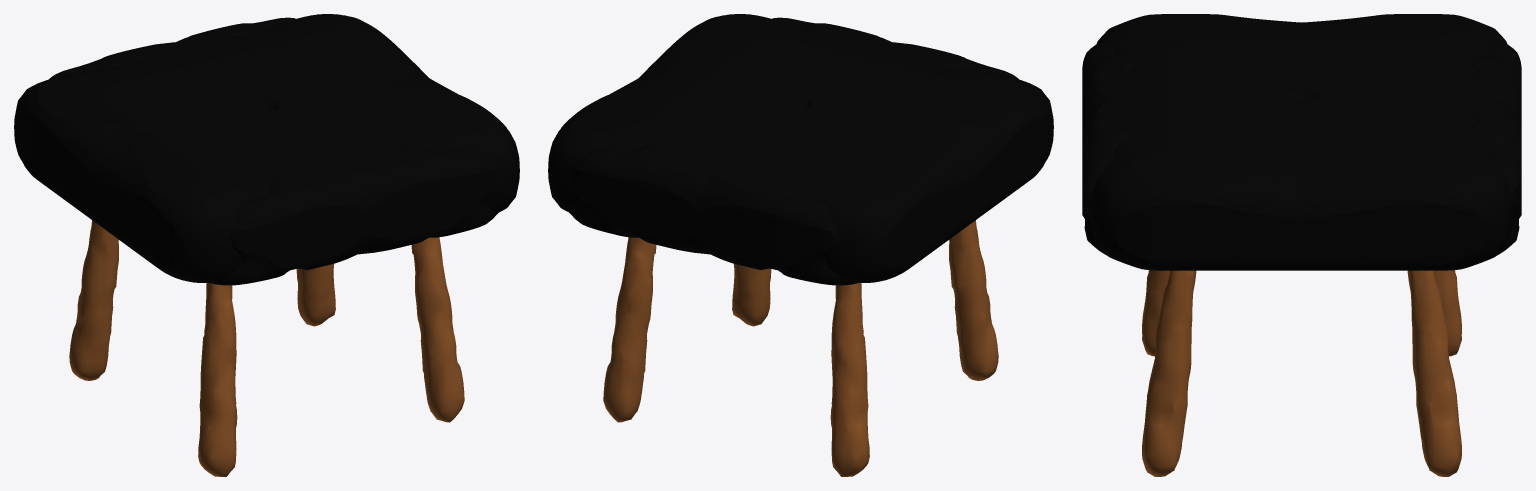
The model's file is Packing Table Small.fbx.
3 views of the same model, side by side, from view 1: azimuth 30°, elevation 25°; view 2: azimuth 150°, elevation 25°; view 3: azimuth 270°, elevation 25° (orthographic). The views are drawn at different scales.
Visible parts, largest first — view 1: Packing Table Small; view 2: Packing Table Small; view 3: Packing Table Small.
Boxes of the visible parts, x1,y1,x2,y2 form: Packing Table Small: [14, 14, 519, 476]; Packing Table Small: [548, 14, 1053, 476]; Packing Table Small: [1082, 14, 1521, 476].
Bounding box in the file's own units: 95.32 × 77.6 × 96.55.
